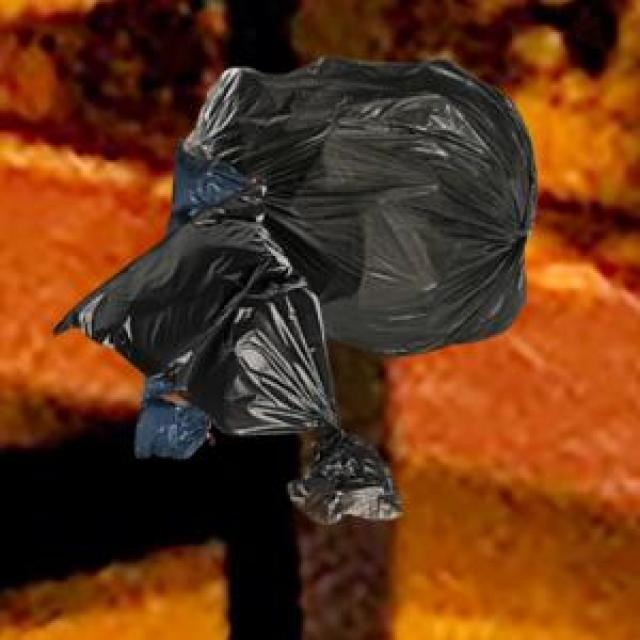Vinyl: (55, 60, 536, 523)
